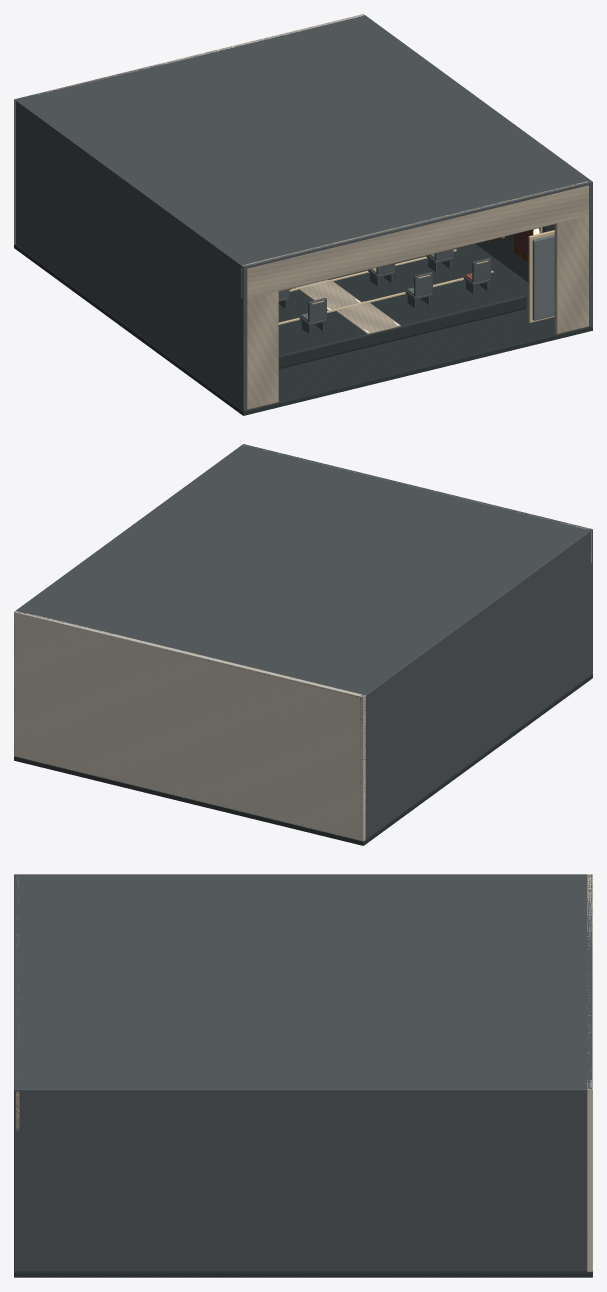
The picture shows the model from 3 angles, top to bottom: view 1: azimuth 30°, elevation 25°; view 2: azimuth 150°, elevation 25°; view 3: azimuth 270°, elevation 25°; orthographic projection. The views are drawn at different scales.
Visible parts, largest first — view 1: PresentationV2_Ceiling, PresentationV2_LeftWall, PresentationV2_Floor, PresentationV2_FrontLintel, PresentationV2_RearTier, PresentationV2_FrontPier_7.2, PresentationV2_FrontPier_-7.2, PresentationV2_MiddleTier, PresentationV2_RightWall, PresentationV2_CenterAisle, PresentationV2_Exit_Right, PresentationV2_BackWall (+4 smaller); view 2: PresentationV2_Ceiling, PresentationV2_BackWall, PresentationV2_LeftWall, PresentationV2_Floor; view 3: PresentationV2_Ceiling, PresentationV2_RightWall, PresentationV2_Floor, PresentationV2_BackWall, PresentationV2_LeftWall.
Boxes of the visible parts, x1=… form: PresentationV2_Ceiling: x1=14, y1=14, x2=589, y2=268; PresentationV2_LeftWall: x1=16, y1=99, x2=247, y2=411; PresentationV2_Floor: x1=14, y1=244, x2=592, y2=415; PresentationV2_FrontLintel: x1=241, y1=181, x2=588, y2=298; PresentationV2_RearTier: x1=278, y1=272, x2=526, y2=368; PresentationV2_FrontPier_7.2: x1=554, y1=215, x2=588, y2=334; PresentationV2_FrontPier_-7.2: x1=247, y1=284, x2=278, y2=409; PresentationV2_MiddleTier: x1=278, y1=251, x2=472, y2=322; PresentationV2_RightWall: x1=361, y1=14, x2=592, y2=326; PresentationV2_CenterAisle: x1=291, y1=279, x2=400, y2=334; PresentationV2_Exit_Right: x1=532, y1=234, x2=554, y2=320; PresentationV2_BackWall: x1=14, y1=14, x2=364, y2=244; PresentationV2_Ceiling: x1=15, y1=444, x2=592, y2=698; PresentationV2_BackWall: x1=14, y1=611, x2=365, y2=841; PresentationV2_LeftWall: x1=360, y1=528, x2=592, y2=839; PresentationV2_Floor: x1=14, y1=674, x2=592, y2=845; PresentationV2_Ceiling: x1=14, y1=874, x2=592, y2=1092; PresentationV2_RightWall: x1=14, y1=1087, x2=591, y2=1271; PresentationV2_Floor: x1=14, y1=1271, x2=592, y2=1277; PresentationV2_BackWall: x1=587, y1=874, x2=592, y2=1271; PresentationV2_LeftWall: x1=14, y1=874, x2=592, y2=876.
Size of the model in its own units: 16.2 by 6.6 by 18.4.
15 materials, 9 textured.
